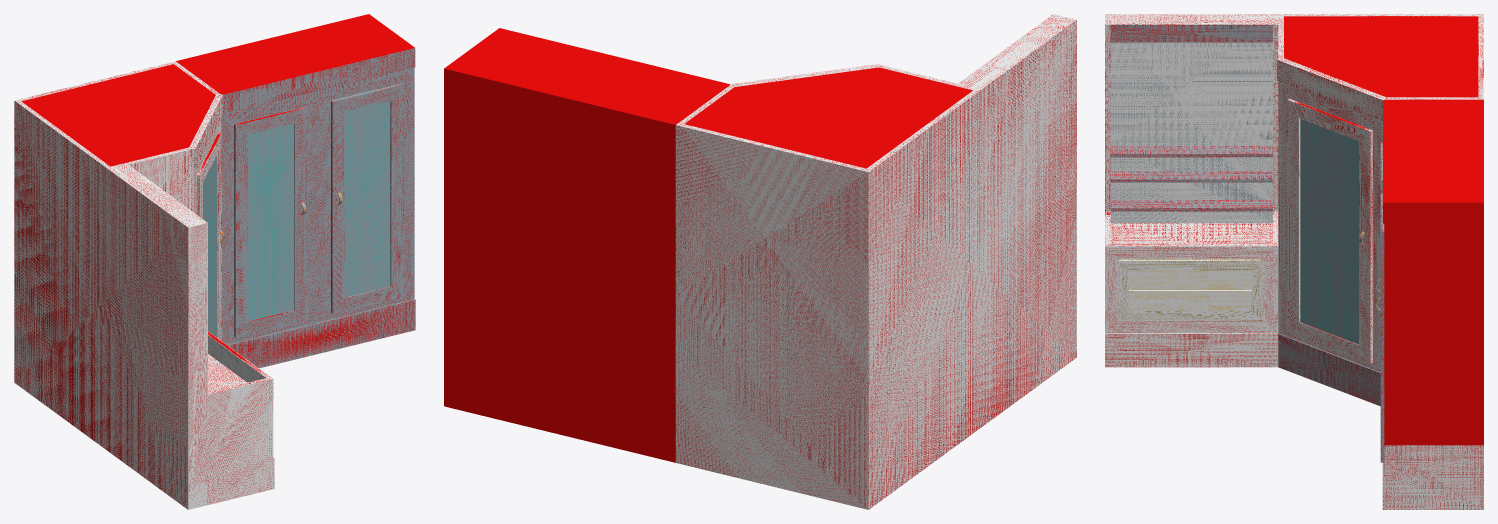
File: froz_fbx.fbx
3 views of the same model, side by side, from view 1: azimuth 30°, elevation 25°; view 2: azimuth 150°, elevation 25°; view 3: azimuth 270°, elevation 25° (orthographic). The views are drawn at different scales.
Parts seen in each view (by area): view 1: skpLyQbxL1; view 2: skpLyQbxL1; view 3: skpLyQbxL1.
Part boxes in pixels (left/top/right/bottom): skpLyQbxL1: left=14, top=14, right=415, bottom=509; skpLyQbxL1: left=444, top=14, right=1076, bottom=509; skpLyQbxL1: left=1105, top=14, right=1483, bottom=509.
Bounding box in the file's own units: 121 × 92 × 103.
